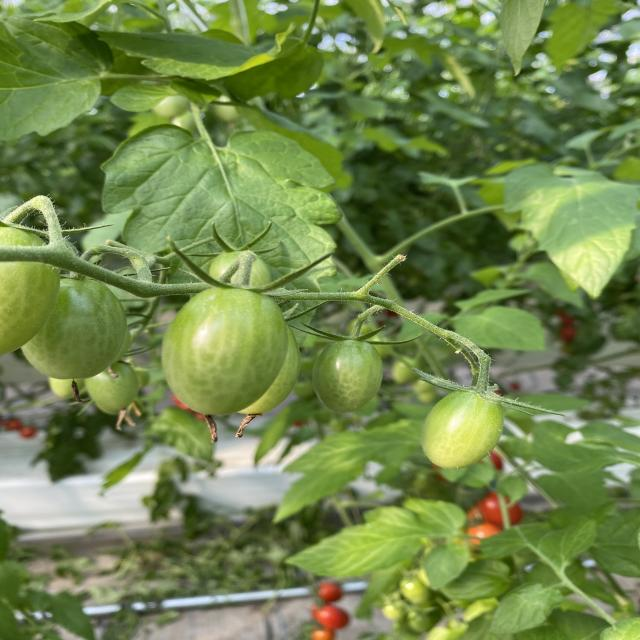c-unriped: (160, 285, 289, 417), (20, 276, 129, 379), (1, 227, 61, 356), (421, 388, 504, 469), (235, 323, 302, 415), (311, 337, 383, 413), (209, 250, 271, 293), (86, 361, 140, 410)
